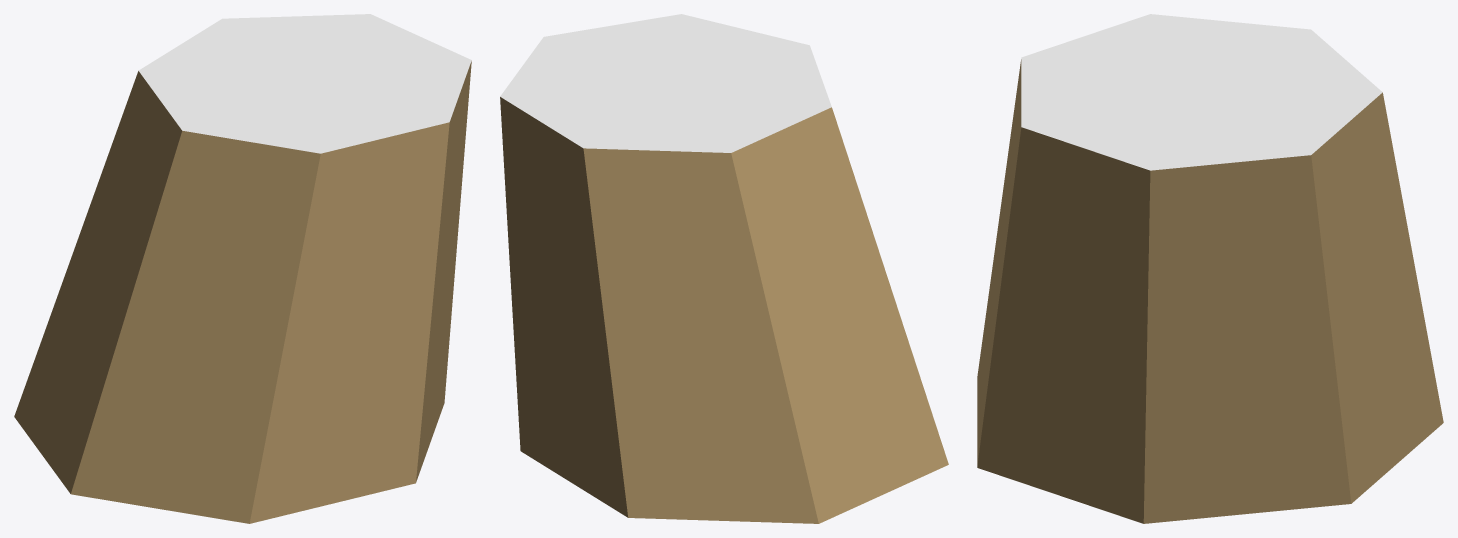
Rendered from Acacia_Stump_Snow_03.fbx.
The picture shows the model from 3 angles, left to right: view 1: azimuth 30°, elevation 25°; view 2: azimuth 150°, elevation 25°; view 3: azimuth 270°, elevation 25°; orthographic projection. The views are drawn at different scales.
Parts seen in each view (by area): view 1: Acacia_Stump_Snow_03; view 2: Acacia_Stump_Snow_03; view 3: Acacia_Stump_Snow_03.
Part boxes in pixels (box(x1,y1,x2,y2)): Acacia_Stump_Snow_03: box(14, 14, 471, 523); Acacia_Stump_Snow_03: box(500, 14, 948, 523); Acacia_Stump_Snow_03: box(977, 14, 1443, 523).
Size of the model in its own units: 119 by 94.19 by 108.
